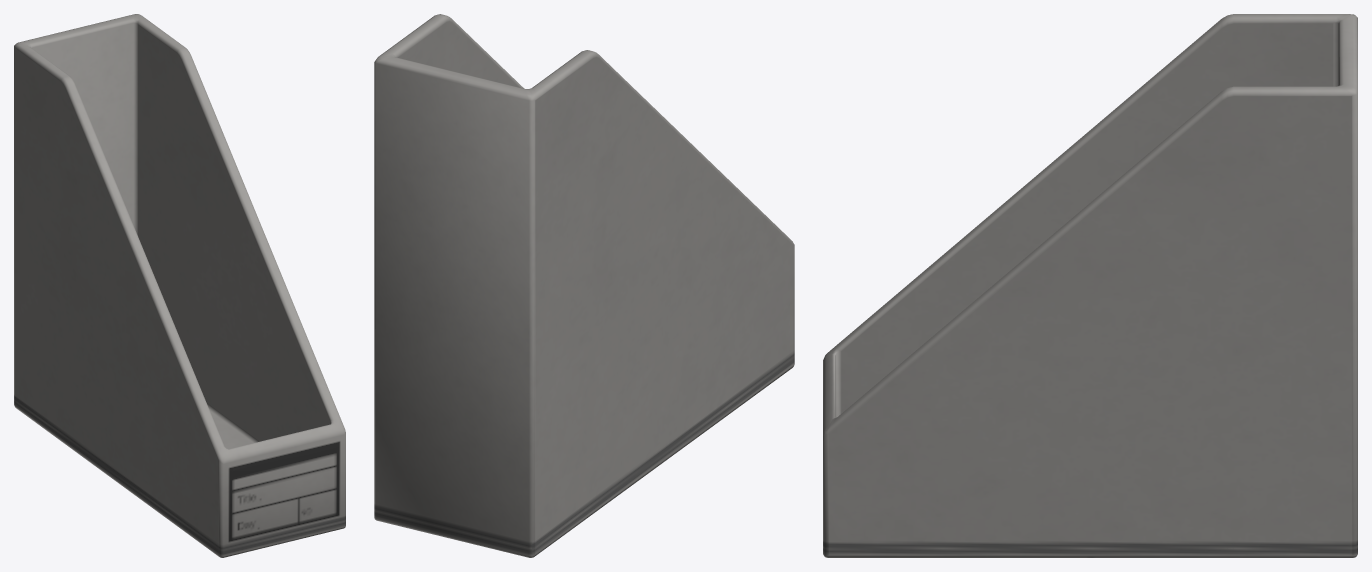
The model's file is Case_B.fbx.
The picture shows the model from 3 angles, left to right: view 1: azimuth 30°, elevation 25°; view 2: azimuth 150°, elevation 25°; view 3: azimuth 270°, elevation 25°; orthographic projection. The views are drawn at different scales.
Parts seen in each view (by area): view 1: Case_B; view 2: Case_B; view 3: Case_B.
Part boxes in pixels (left/top/right/bottom): Case_B: left=14, top=14, right=345, bottom=557; Case_B: left=374, top=14, right=794, bottom=557; Case_B: left=823, top=14, right=1357, bottom=557.
Size of the model in its own units: 0.1296 by 0.3578 by 0.3704.
